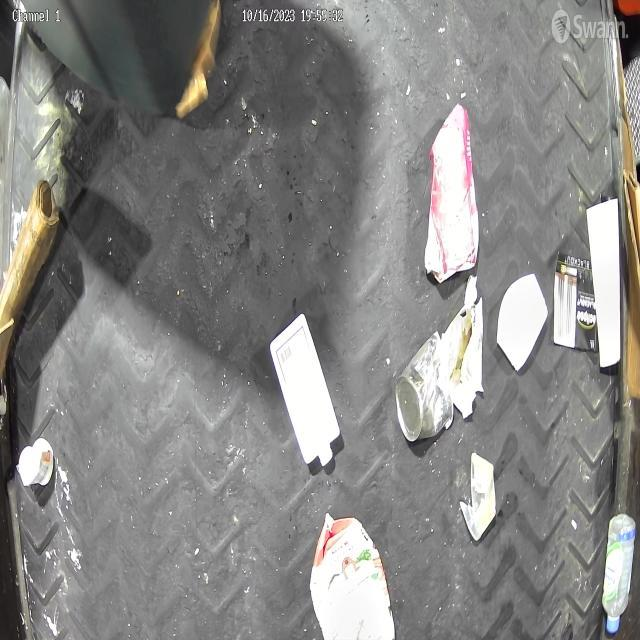can: (388, 320, 458, 458)
plastic_bottle: (598, 511, 640, 640)
